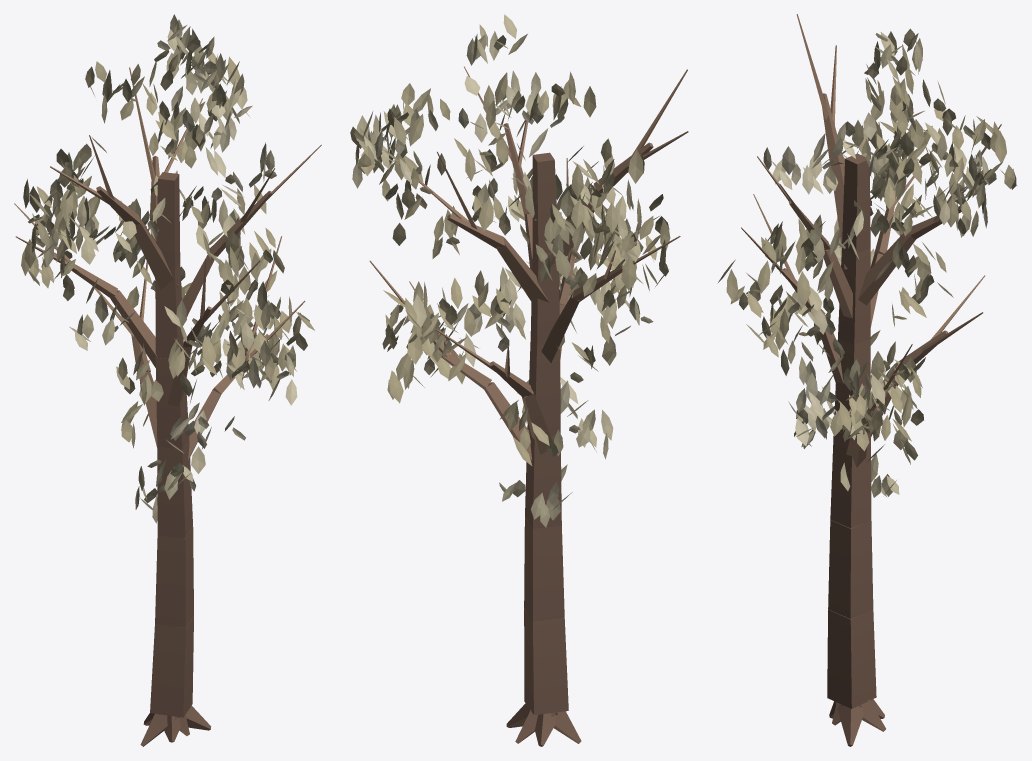
File: tree_3d_02_golden_beige.glb
3 renders of one model, left to right at view 1: azimuth 30°, elevation 25°; view 2: azimuth 150°, elevation 25°; view 3: azimuth 270°, elevation 25°, orthographic. The views are drawn at different scales.
Parts seen in each view (by area): view 1: tree_3d_02_golden_beige_foliage, tree_3d_02_golden_beige_wood; view 2: tree_3d_02_golden_beige_foliage, tree_3d_02_golden_beige_wood; view 3: tree_3d_02_golden_beige_foliage, tree_3d_02_golden_beige_wood.
Boxes of the visible parts, bbox=[...] form: tree_3d_02_golden_beige_foliage: bbox=[21, 14, 314, 523]; tree_3d_02_golden_beige_wood: bbox=[14, 67, 321, 746]; tree_3d_02_golden_beige_foliage: bbox=[350, 14, 670, 527]; tree_3d_02_golden_beige_wood: bbox=[369, 66, 688, 746]; tree_3d_02_golden_beige_foliage: bbox=[717, 28, 1017, 497]; tree_3d_02_golden_beige_wood: bbox=[741, 14, 1001, 746].
Size of the model in its own units: 5.4 by 12.5 by 4.8.
